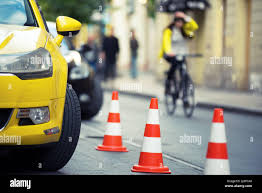car: (1, 1, 83, 171)
cone: (132, 97, 172, 173), (97, 88, 132, 153), (202, 108, 232, 175)
